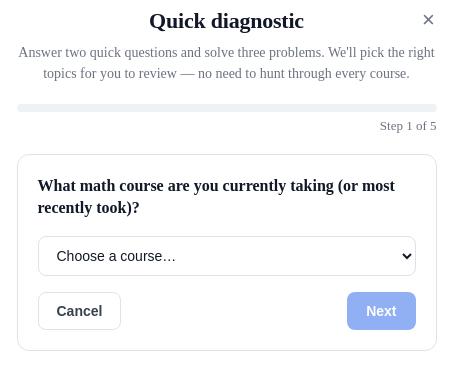
Test: Diagnostic › advances the progress bar only when moving to the next question
The image size is (454, 368).
Expected: the text "What math course are you currently taking" is shown, [38,177,395,216]
Select "Grade 8" in the dropdown at {"x": 226, "y": 256}, box [38,236,416,276]
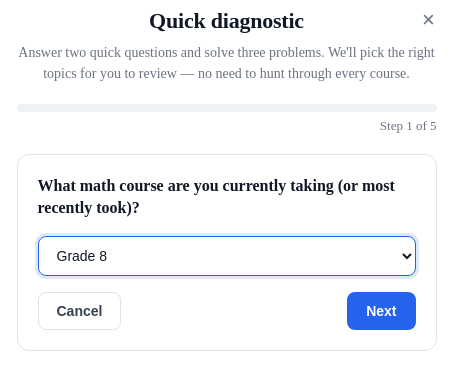
Click the button "Next" at {"x": 381, "y": 311}, box [347,292,416,330]
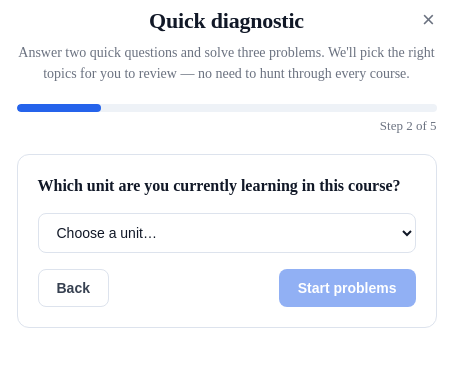
Expected: the text "Which unit are you currently learning in this course?" is shown, [38,175,416,197]
